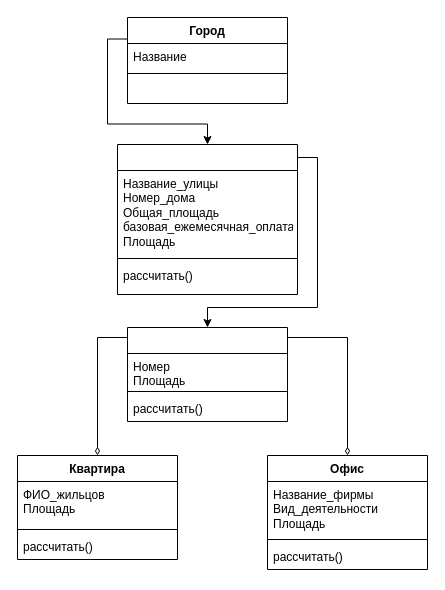
Image size: 445x590. Some labels were removed from this diagram. The shapes that lost their labels are listed below. From the top down, each one's box as (x1, y1, x2, y2) in pixels, then its label:
(116, 144, 298, 294): Здание
(126, 326, 288, 422): Помещение
